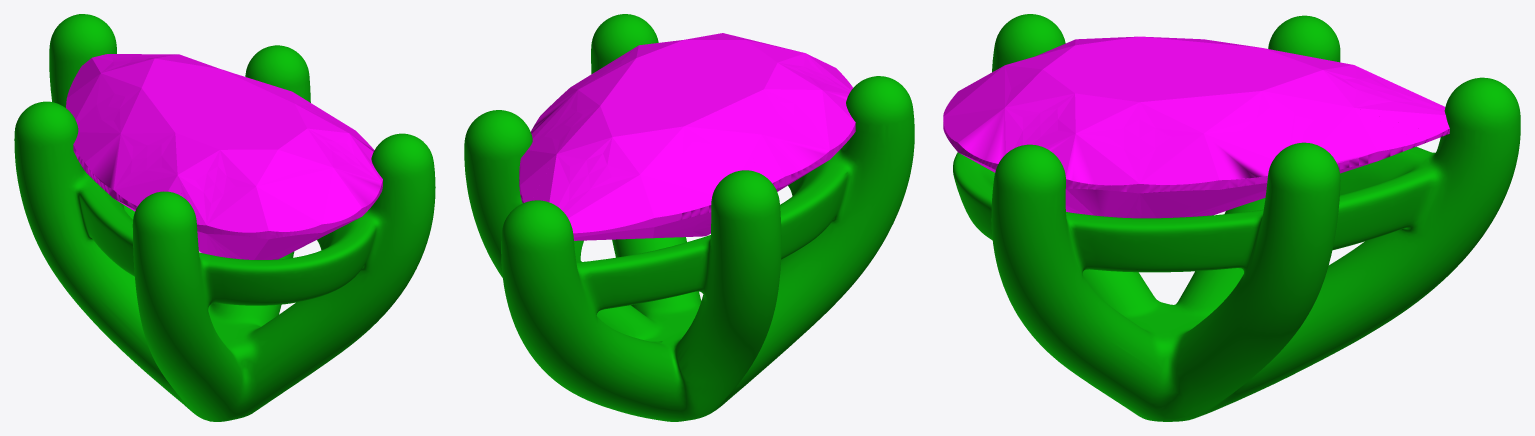
3 renders of one model, left to right at view 1: azimuth 30°, elevation 25°; view 2: azimuth 150°, elevation 25°; view 3: azimuth 270°, elevation 25°, orthographic. The views are drawn at different scales.
Parts seen in each view (by area): view 1: Metal01, Diamond_Pear; view 2: Metal01, Diamond_Pear; view 3: Metal01, Diamond_Pear.
Part boxes in pixels (bbox=[...]): Metal01: bbox=[14, 14, 435, 421]; Diamond_Pear: bbox=[66, 54, 382, 259]; Metal01: bbox=[464, 14, 914, 421]; Diamond_Pear: bbox=[519, 33, 855, 240]; Metal01: bbox=[953, 14, 1520, 421]; Diamond_Pear: bbox=[943, 36, 1449, 218].
Size of the model in its own units: 5.25 by 5.15 by 7.92.
